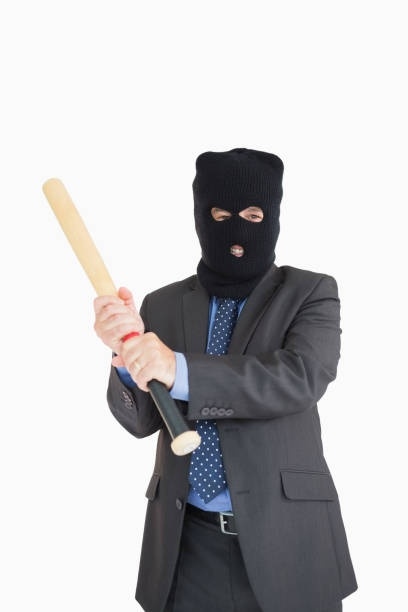bita: (46, 175, 199, 460)
